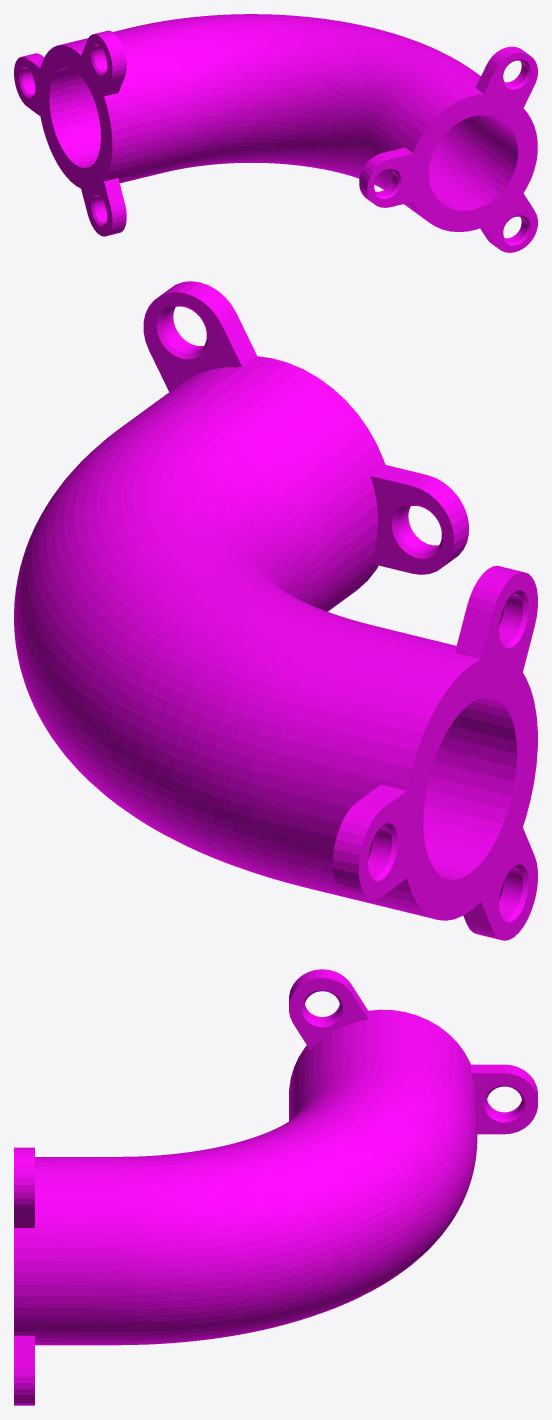
The model's file is Pipe.glb.
3 renders of one model, top to bottom at view 1: azimuth 30°, elevation 25°; view 2: azimuth 150°, elevation 25°; view 3: azimuth 270°, elevation 25°, orthographic. The views are drawn at different scales.
Parts seen in each view (by area): view 1: Node1; view 2: Node1; view 3: Node1.
Part boxes in pixels (bbox=[...]): Node1: bbox=[14, 14, 537, 252]; Node1: bbox=[14, 281, 537, 940]; Node1: bbox=[14, 969, 537, 1405].
Size of the model in its own units: 176 by 105 by 199.
